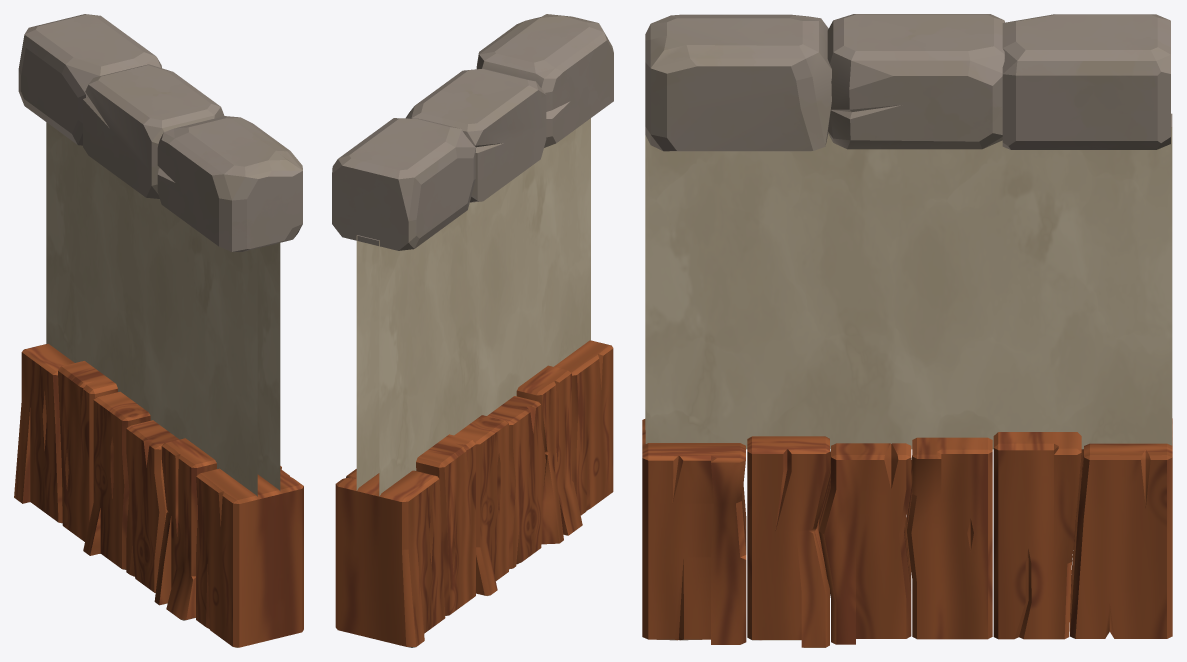
Rendered from SM_Wall_01.fbx.
3 views of the same model, side by side, from view 1: azimuth 30°, elevation 25°; view 2: azimuth 150°, elevation 25°; view 3: azimuth 270°, elevation 25° (orthographic). The views are drawn at different scales.
Visible parts, largest first — view 1: SM_Wall_01; view 2: SM_Wall_01; view 3: SM_Wall_01.
Boxes of the visible parts, x1,y1,x2,y2 form: SM_Wall_01: (14, 14, 303, 647); SM_Wall_01: (332, 14, 613, 647); SM_Wall_01: (642, 14, 1172, 647).
Bounding box in the file's own units: 79.66 × 371 × 302.
